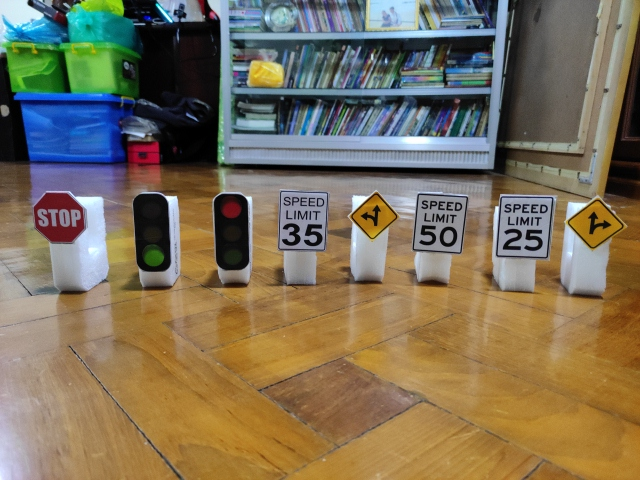Green Traffic Light: (132, 192, 172, 272)
Red Traffic Light: (212, 191, 250, 272)
Speed Limit 25: (496, 194, 555, 259)
Speed Limit 35: (278, 190, 330, 252)
Speed Limit 50: (410, 192, 468, 254)
Stop Sign: (32, 190, 88, 244)
Straight Or Left Sign: (350, 191, 400, 240)
Straight Or Right Sign: (565, 198, 627, 252)
